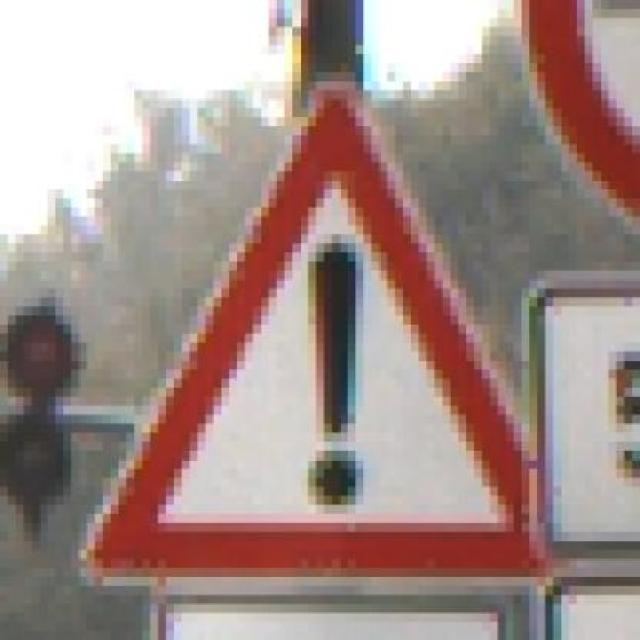Attention Please-: (56, 80, 584, 594)
